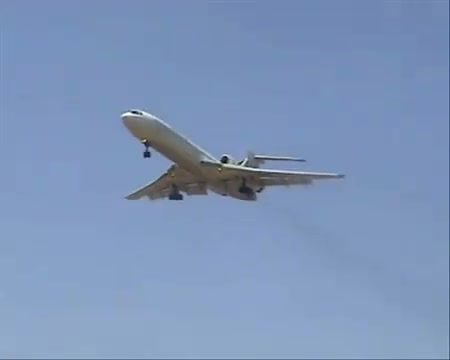aeroplane: (119, 108, 348, 206)
